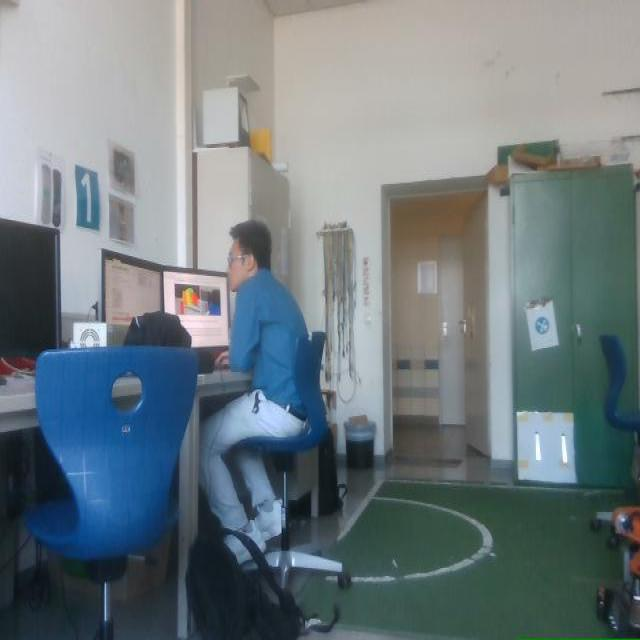humans: (199, 221, 307, 548)
objects: (25, 345, 196, 639), (187, 516, 307, 639), (163, 268, 230, 369), (102, 249, 162, 331), (600, 335, 639, 436), (123, 311, 191, 347)
